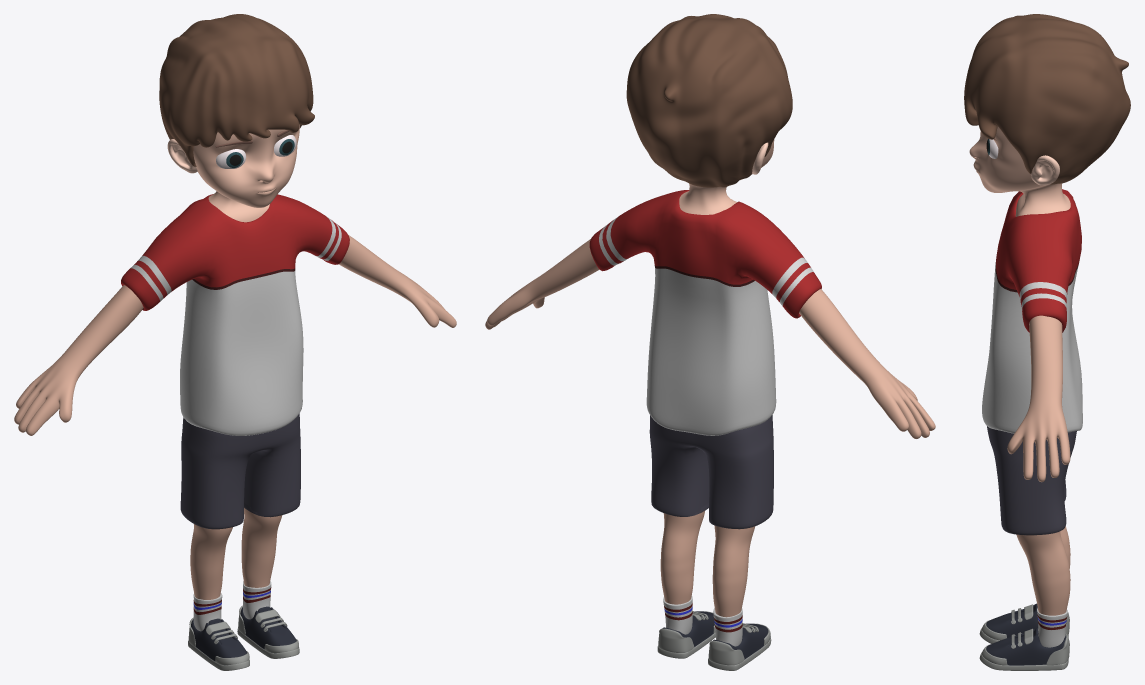
File: kid_boy.glb
The picture shows the model from 3 angles, left to right: view 1: azimuth 30°, elevation 25°; view 2: azimuth 150°, elevation 25°; view 3: azimuth 270°, elevation 25°; orthographic projection.
Visible parts, largest first — view 1: Cube.001, object 4, Cube, Cylinder.002, Kafa.001, Plane.003, Plane.002, object 3; view 2: Cube.001, object 4, Cube, Cylinder.002, Plane.003, Plane.002, Kafa.001; view 3: Cube.001, object 4, Cube, Cylinder.002, Kafa.001, Plane.002, Plane.003, Kulak.001.
Part boxes in pixels (<box>): Cube.001: <box>14,194,456,435</box>; object 4: <box>159,14,314,166</box>; Cube: <box>180,413,300,529</box>; Cylinder.002: <box>190,508,282,631</box>; Kafa.001: <box>193,124,299,222</box>; Plane.003: <box>188,617,249,670</box>; Plane.002: <box>237,605,299,658</box>; object 3: <box>216,135,296,168</box>; Cube.001: <box>485,190,935,438</box>; object 4: <box>626,14,792,187</box>; Cube: <box>649,415,773,529</box>; Cylinder.002: <box>660,511,755,646</box>; Plane.003: <box>708,623,771,670</box>; Plane.002: <box>657,611,715,658</box>; Kafa.001: <box>679,139,774,214</box>; Cube.001: <box>982,189,1082,482</box>; object 4: <box>964,14,1130,184</box>; Cube: <box>987,426,1076,535</box>; Cylinder.002: <box>1016,526,1070,647</box>; Kafa.001: <box>969,126,1070,216</box>; Plane.002: <box>979,628,1069,670</box>; Plane.003: <box>979,603,1069,643</box>; Kulak.001: <box>1031,155,1059,185</box>.
Bounding box in the file's own units: 2.33 × 3.2 × 0.7709.
